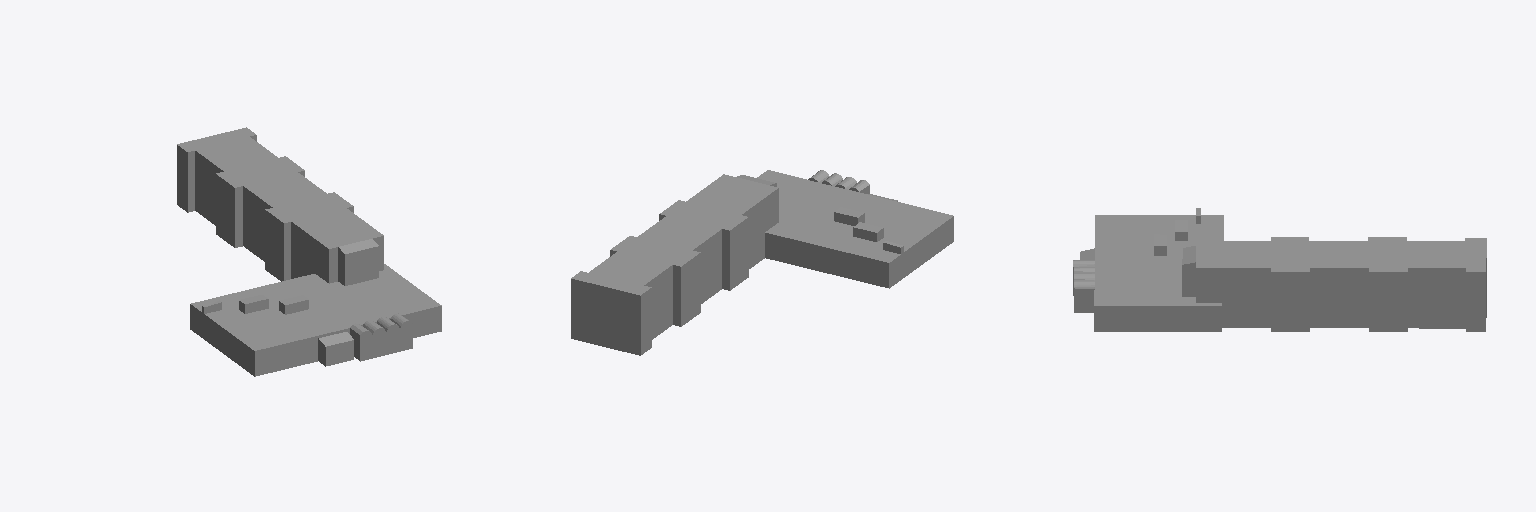
The model's file is talo_build0000063_rotated.obj.
3 views of the same model, side by side, from view 1: azimuth 30°, elevation 25°; view 2: azimuth 150°, elevation 25°; view 3: azimuth 270°, elevation 25° (orthographic).
Parts seen in each view (by area): view 1: talo_Build[number redacted]; view 2: talo_Build[number redacted]; view 3: talo_Build[number redacted].
Part boxes in pixels (left/top/right/bottom): talo_Build[number redacted]: left=177, top=127, right=441, bottom=376; talo_Build[number redacted]: left=571, top=170, right=953, bottom=355; talo_Build[number redacted]: left=1073, top=208, right=1486, bottom=331.
Size of the model in its own units: 4.26 by 1.31 by 8.12.